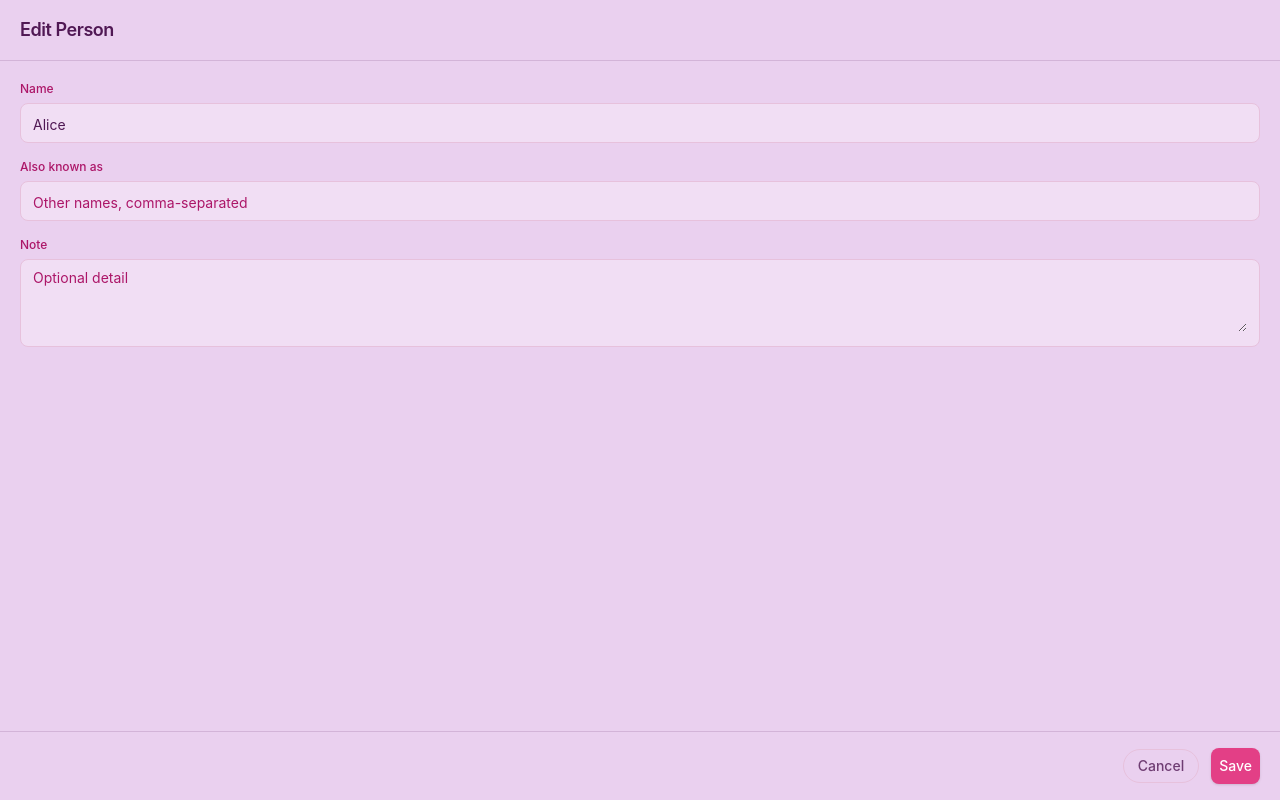
Scenario: PersonEditor edit › shows the static fallback when the mutation fails with a blank-message WsRequestError
Replace the text in the field labelled "Name" with "Alice Smith" at (640, 125), box [33,115,1247,135]
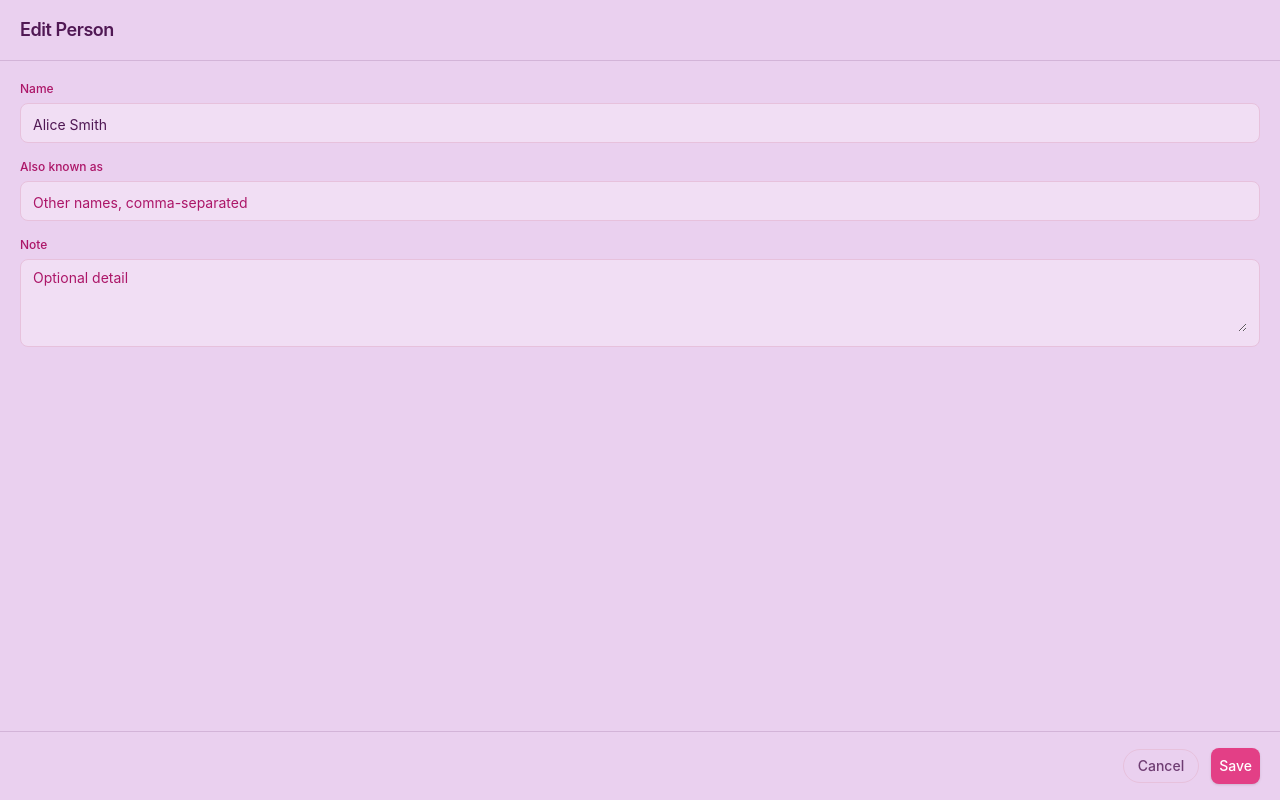
Click the button "Save" at (1236, 766), box [1211,748,1260,784]
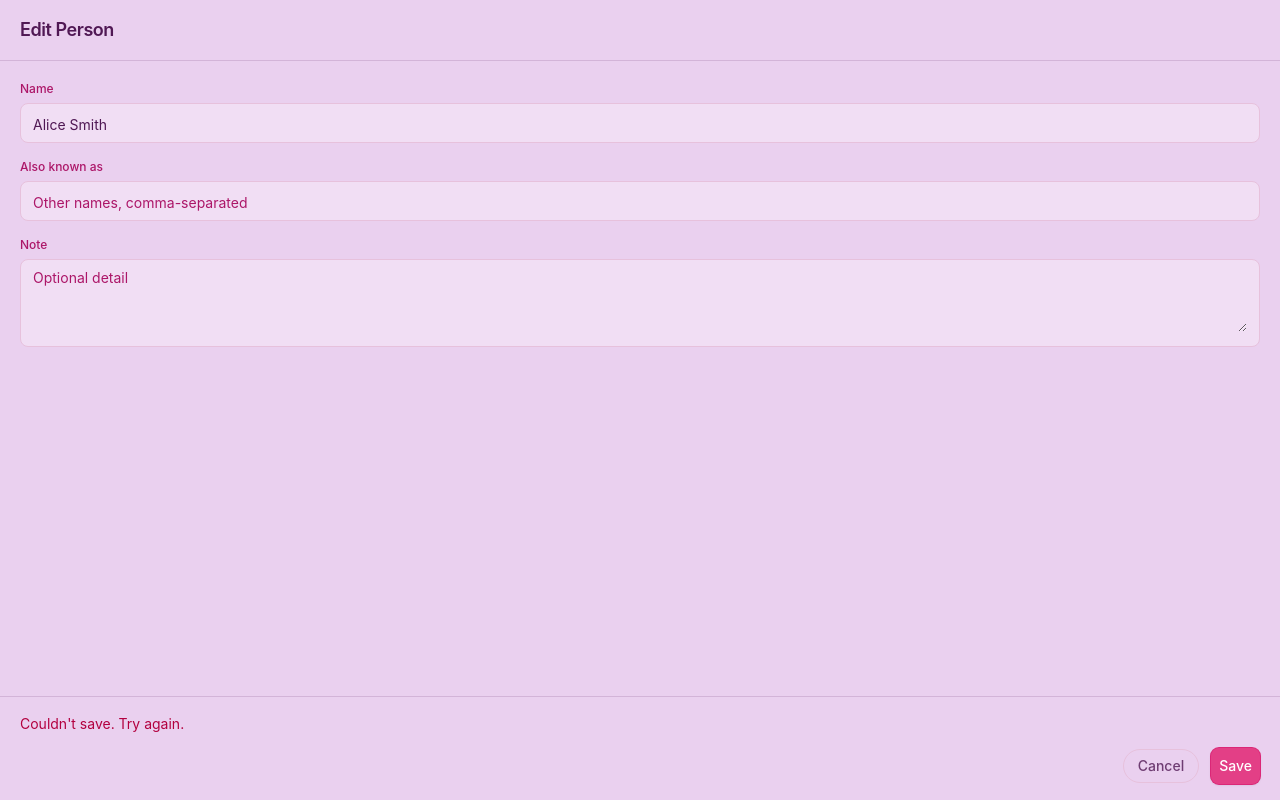
Expected: the message does not show "connection_lost", [20,715,184,732]
Now the message reads "Couldn't save. Try again.", box [20,715,184,732]
